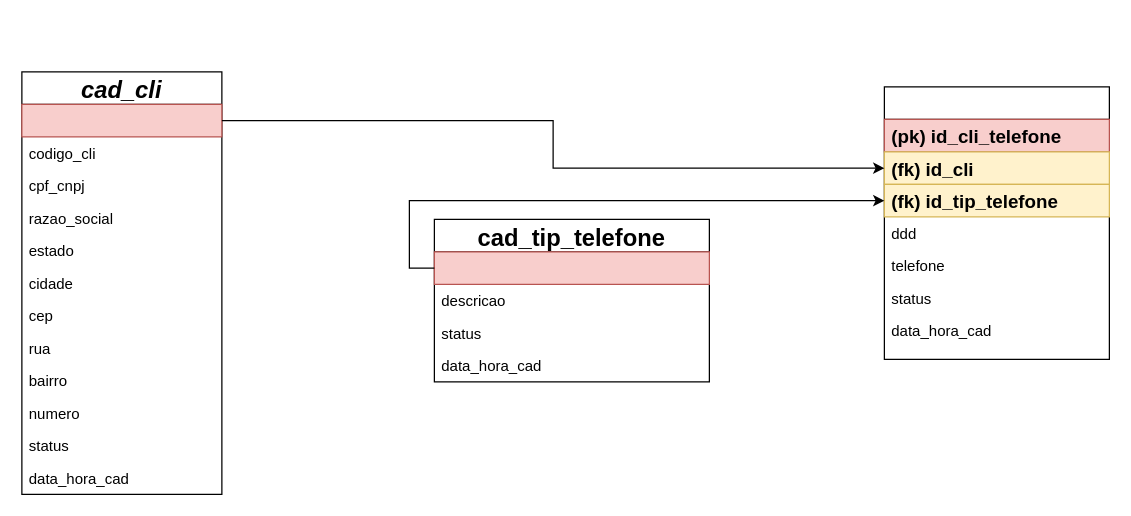
This 1131x516 diagram has some shape labels left out. The shapes that lost their labels are listed below. From the top down, each one's box as (x1, y1, x2, y2) in pixels, then its label:
(21, 103, 222, 137): (pk) id_cli
(883, 86, 1109, 359): cad_cli_telefone
(433, 251, 709, 284): (pk )id_tip_telefone
